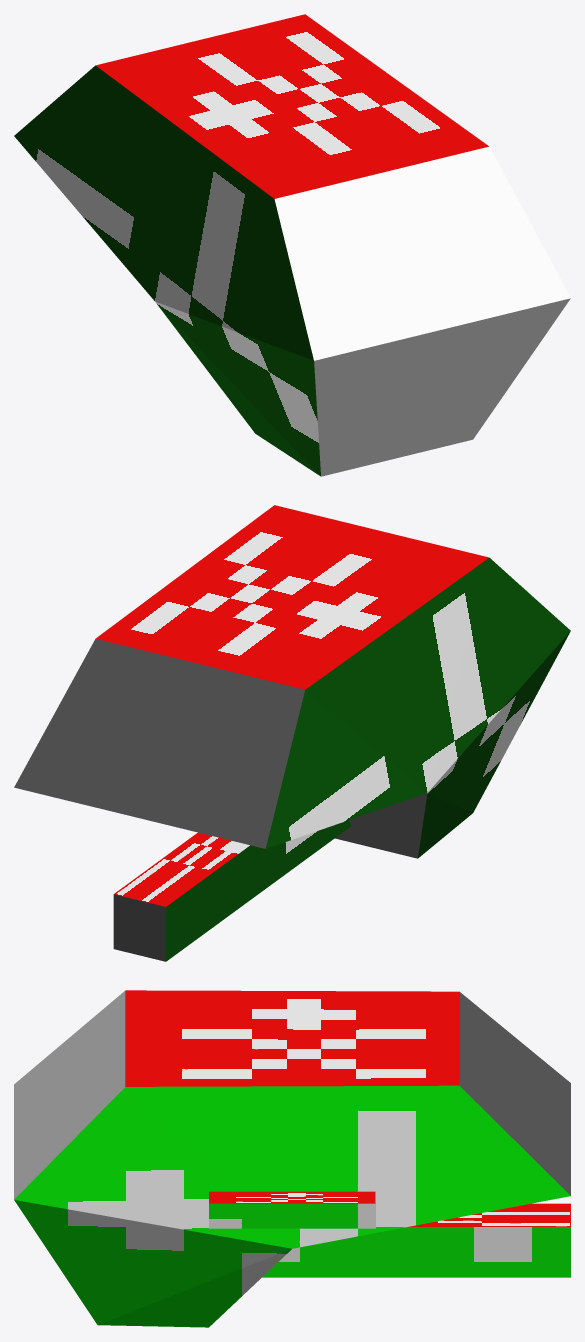
Rendered from heavytank5.obj.
3 renders of one model, top to bottom at view 1: azimuth 30°, elevation 25°; view 2: azimuth 150°, elevation 25°; view 3: azimuth 270°, elevation 25°, orthographic. The views are drawn at different scales.
Parts seen in each view (by area): view 1: heavytank5; view 2: heavytank5; view 3: heavytank5.
Part boxes in pixels (x1,y1,x2,y2): heavytank5: (14, 14, 570, 476); heavytank5: (14, 505, 570, 961); heavytank5: (14, 990, 570, 1327).
Bounding box in the file's own units: 1.17 × 1 × 2.
Materials: 1 (1 with a texture image).
